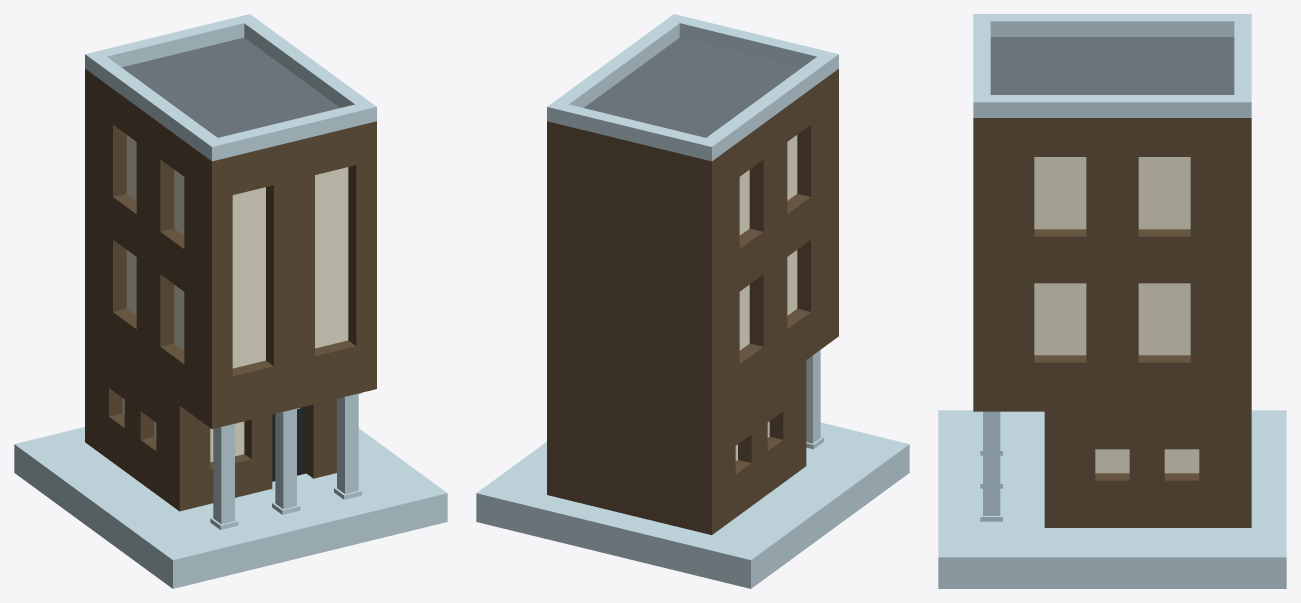
Rendered from Building_9_Base (Brown).obj.
The picture shows the model from 3 angles, left to right: view 1: azimuth 30°, elevation 25°; view 2: azimuth 150°, elevation 25°; view 3: azimuth 270°, elevation 25°; orthographic projection. The views are drawn at different scales.
Visible parts, largest first — view 1: Building_9_Base_(Brown); view 2: Building_9_Base_(Brown); view 3: Building_9_Base_(Brown).
Boxes of the visible parts, x1,y1,x2,y2 form: Building_9_Base_(Brown): [14, 14, 447, 588]; Building_9_Base_(Brown): [476, 14, 909, 588]; Building_9_Base_(Brown): [938, 14, 1286, 588].
Bounding box in the file's own units: 2 × 2.9 × 2.
